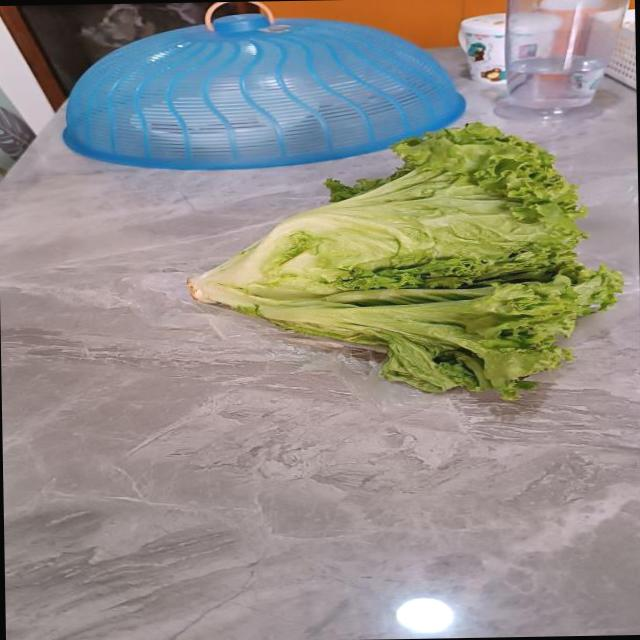Lettuce-Ready-to-Harvest: (188, 122, 622, 397)
